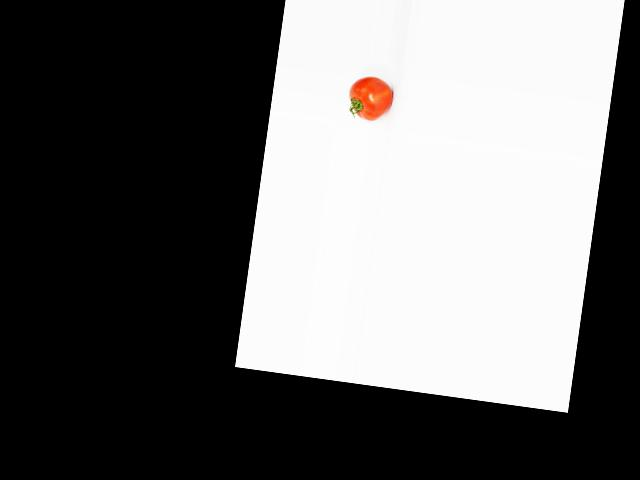tomato: (345, 73, 395, 123)
